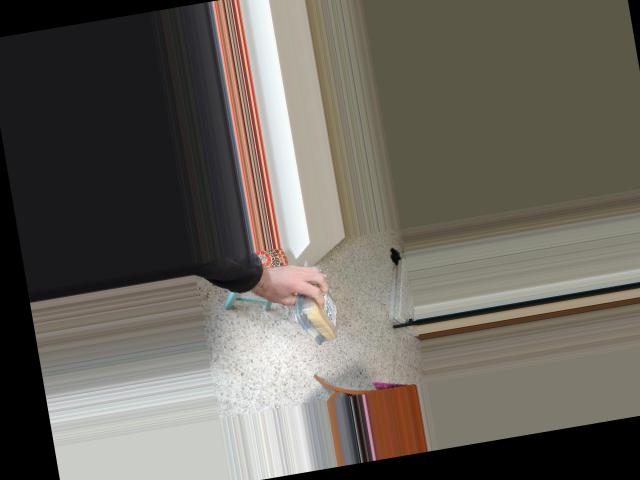cheese: (288, 267, 346, 350)
